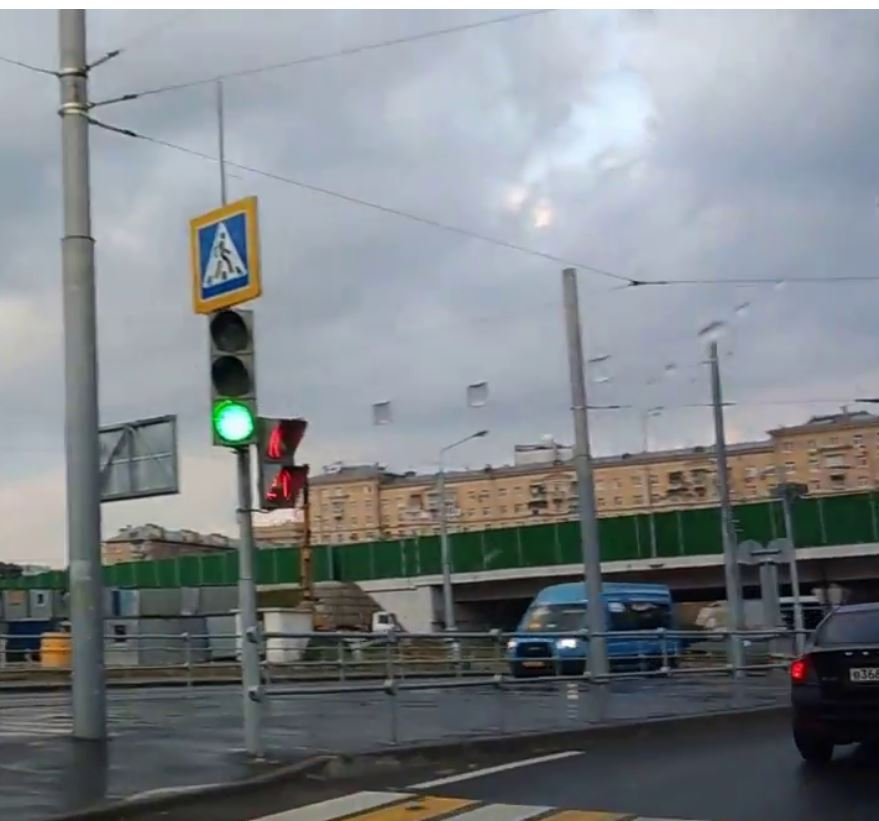Yaya Gecidi: (197, 225, 250, 293)
